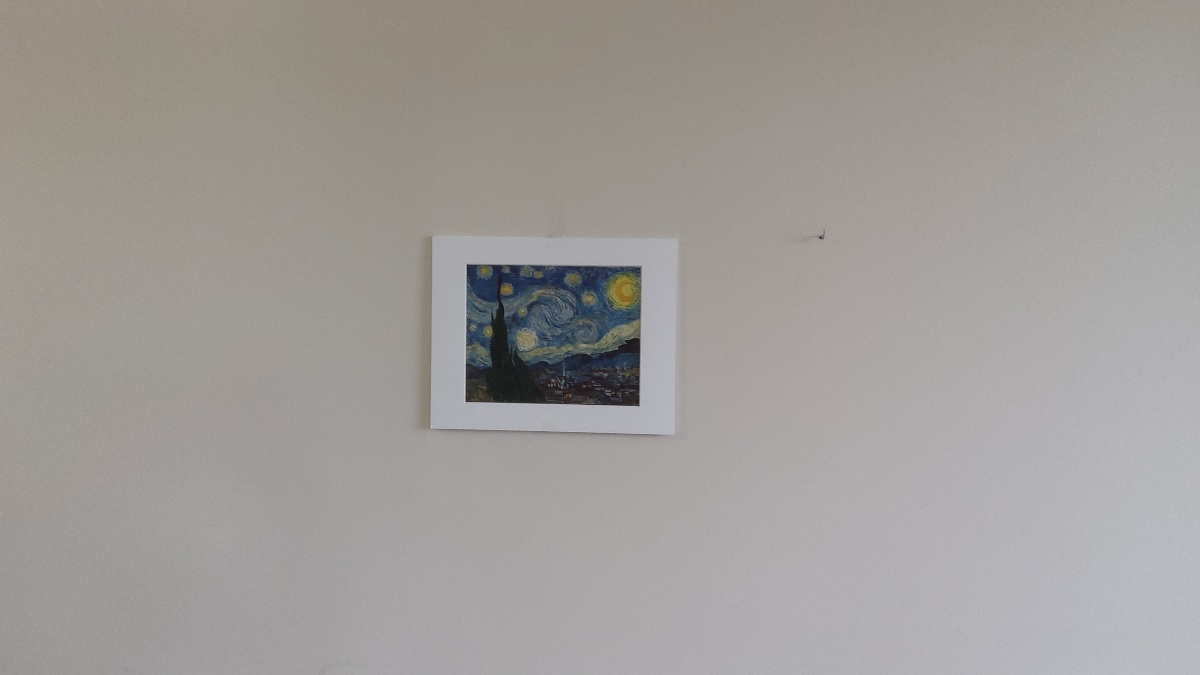painting: (456, 258, 649, 410)
